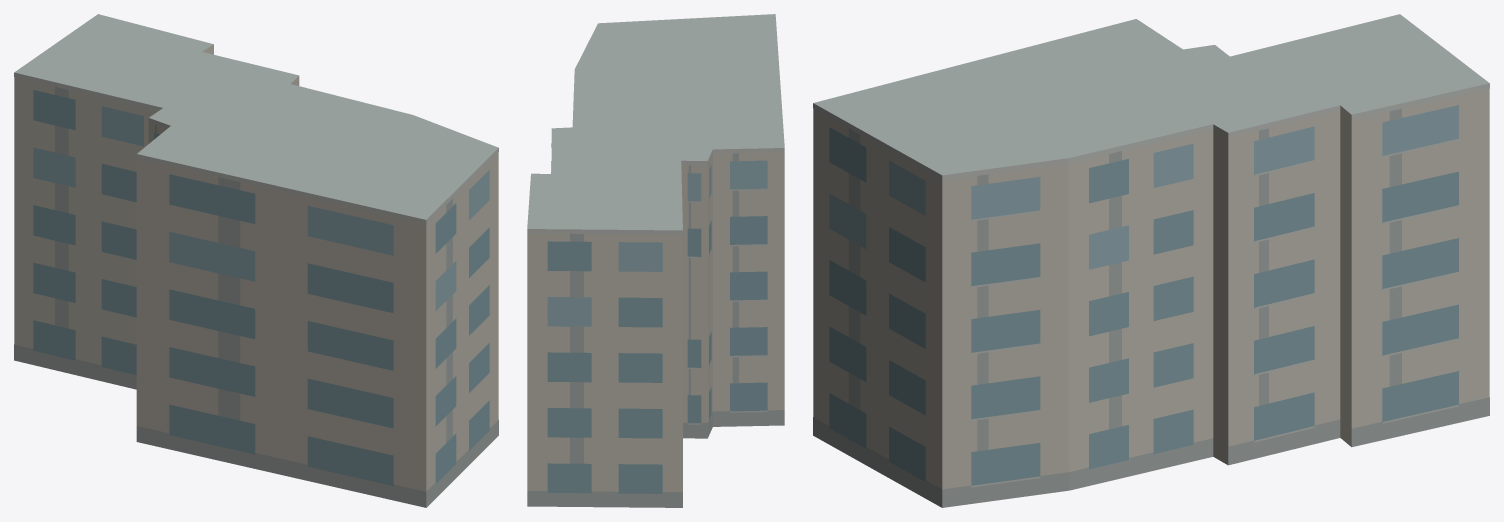
The model's file is survey-upis-33021864.glb.
The picture shows the model from 3 angles, left to right: view 1: azimuth 30°, elevation 25°; view 2: azimuth 150°, elevation 25°; view 3: azimuth 270°, elevation 25°; orthographic projection. The views are drawn at different scales.
Parts seen in each view (by area): view 1: survey-upis-33021864.tmp; view 2: survey-upis-33021864.tmp; view 3: survey-upis-33021864.tmp.
Boxes of the visible parts, left/top/right/bottom form: survey-upis-33021864.tmp: left=14, top=14, right=498, bottom=507; survey-upis-33021864.tmp: left=527, top=14, right=784, bottom=507; survey-upis-33021864.tmp: left=813, top=14, right=1489, bottom=507.
Size of the model in its own units: 15.88 by 15.25 by 28.13.
